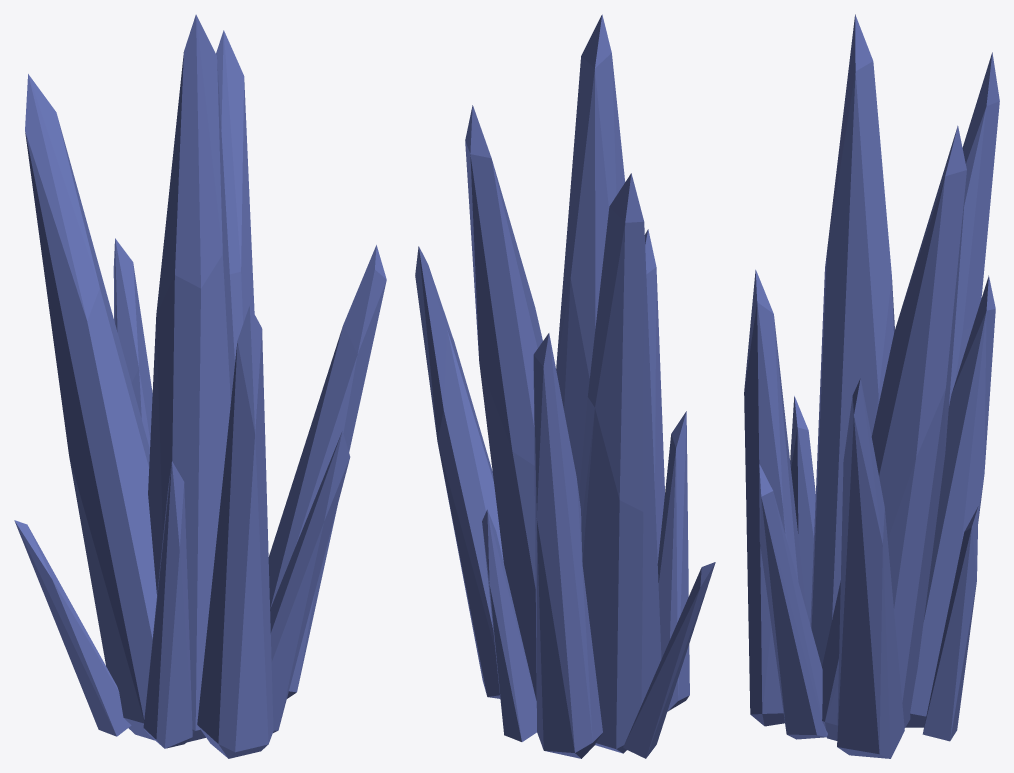
File: Coral0.glb
The picture shows the model from 3 angles, left to right: view 1: azimuth 30°, elevation 25°; view 2: azimuth 150°, elevation 25°; view 3: azimuth 270°, elevation 25°; orthographic projection.
Visible parts, largest first — view 1: Coral; view 2: Coral; view 3: Coral.
Boxes of the visible parts, x1,y1,x2,y2 form: Coral: (14, 14, 386, 758); Coral: (415, 14, 715, 758); Coral: (744, 14, 999, 758).
Bounding box in the file's own units: 25.17 × 51.49 × 16.6.
